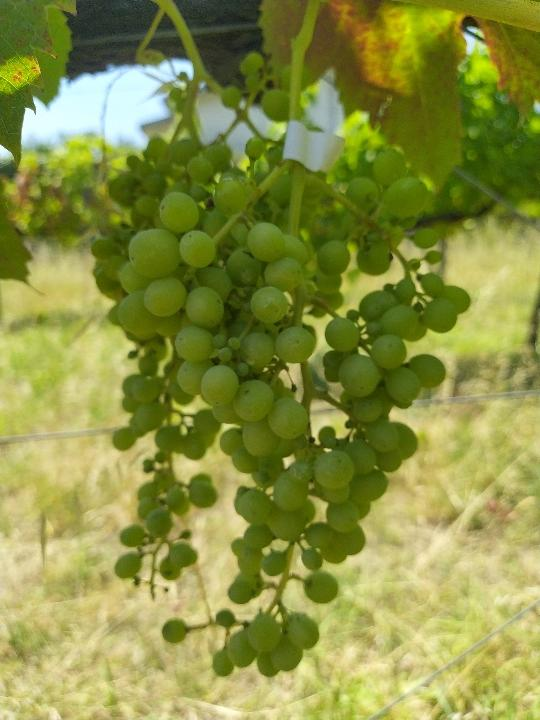grape: (118, 137, 477, 679)
